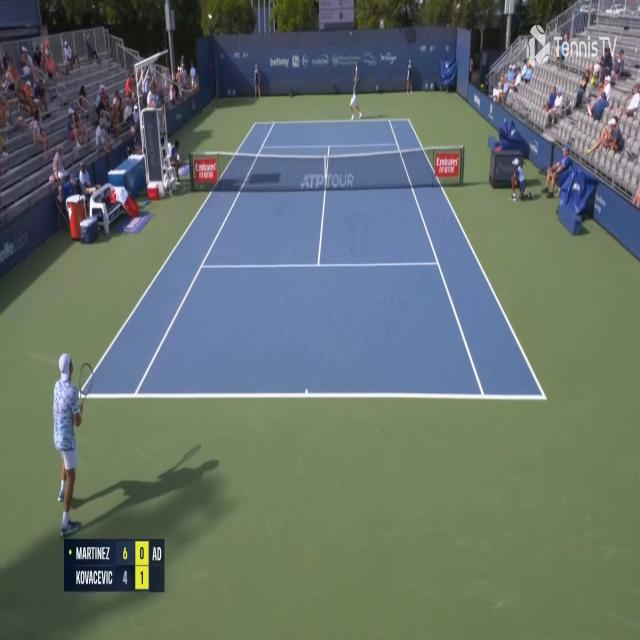tennis-player: (52, 346, 96, 538), (349, 62, 363, 122)
